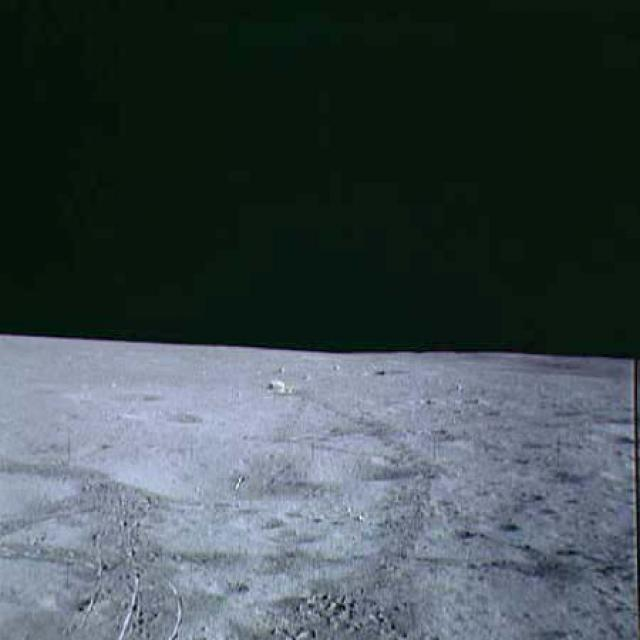crater: (82, 442, 334, 509), (299, 438, 447, 492), (68, 377, 158, 408), (115, 403, 218, 430)
